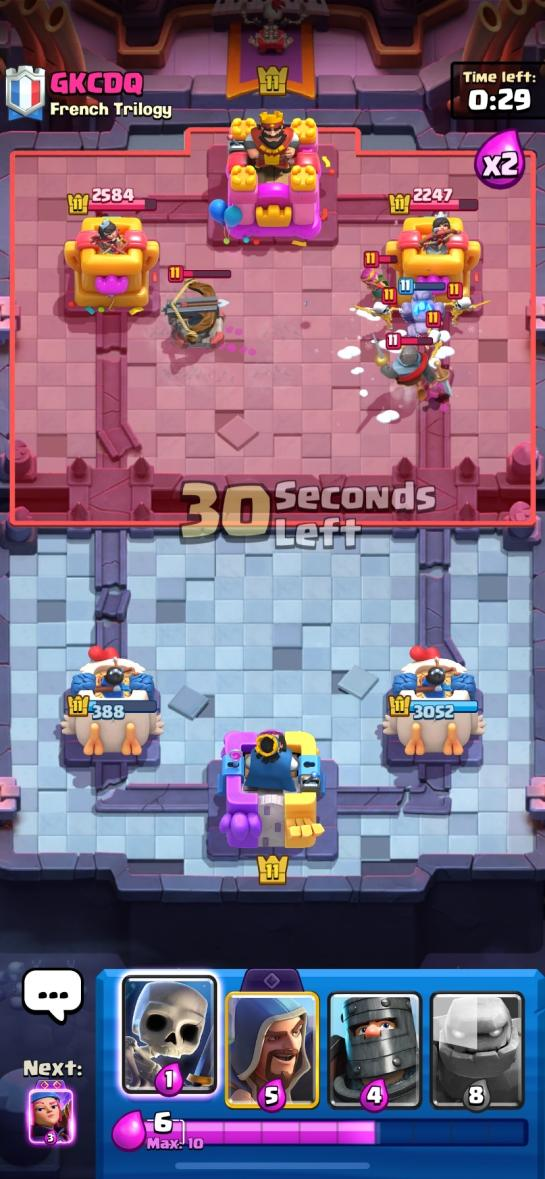EArcher: (361, 251, 394, 298)
EKingTower: (222, 111, 325, 242)
EKnight: (375, 332, 436, 389)
ELarry: (451, 285, 481, 324), (372, 289, 397, 328), (426, 310, 443, 343)
EXbow: (163, 277, 227, 348)
EnemyPrincessTower: (64, 216, 158, 315), (386, 213, 469, 292)
OMiniGolem: (398, 277, 446, 334)
OwnKingTower: (219, 730, 324, 849)
OwnPrincessTower: (383, 646, 483, 758), (64, 659, 156, 757)
